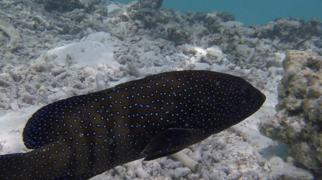Serranidae -Groupers-: (0, 67, 268, 180)
